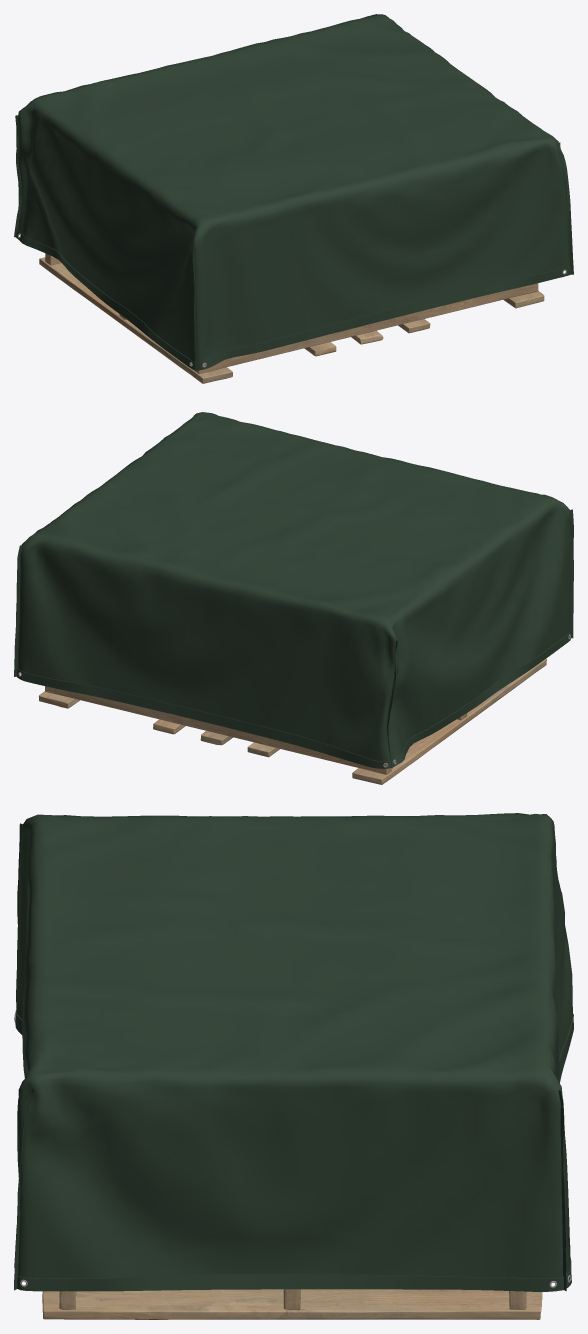
File: pallet_assembly_b01.glb
3 renders of one model, top to bottom at view 1: azimuth 30°, elevation 25°; view 2: azimuth 150°, elevation 25°; view 3: azimuth 270°, elevation 25°, orthographic. The views are drawn at different scales.
Visible parts, largest first — view 1: sm_pallet_assembly_b01_mesh_00; view 2: sm_pallet_assembly_b01_mesh_00; view 3: sm_pallet_assembly_b01_mesh_00.
Part boxes in pixels (x1=…): sm_pallet_assembly_b01_mesh_00: x1=14, y1=14, x2=573, y2=383; sm_pallet_assembly_b01_mesh_00: x1=14, y1=412, x2=573, y2=784; sm_pallet_assembly_b01_mesh_00: x1=14, y1=813, x2=573, y2=1319.
Bounding box in the file's own units: 1.33 × 0.559 × 1.11.
Materials: 5 (4 with a texture image).
